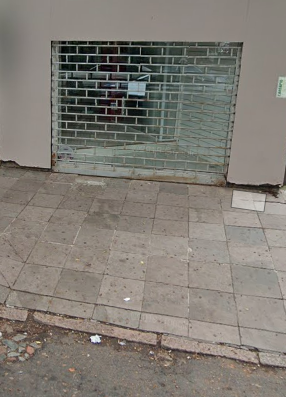vag7: (4, 252, 286, 383)
